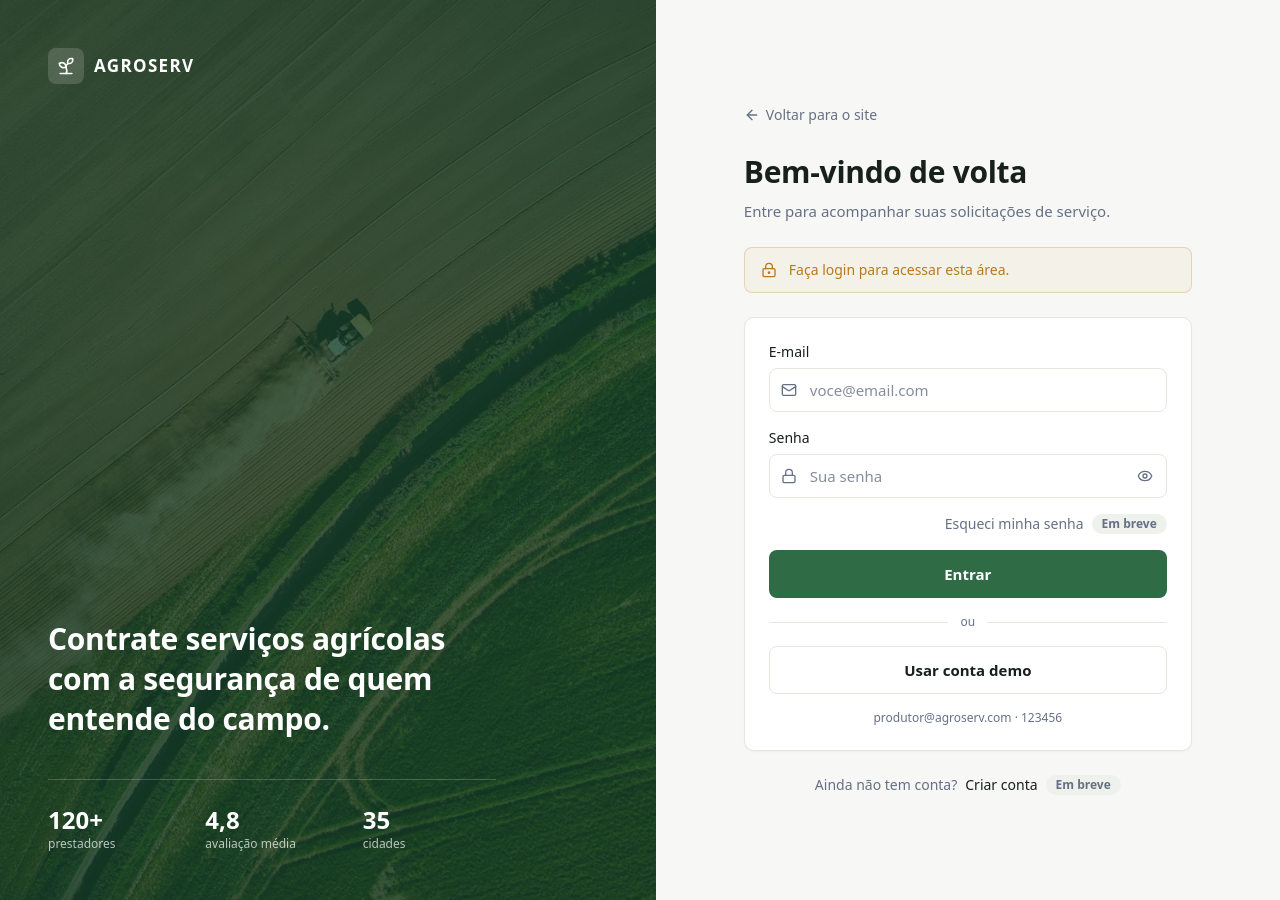
RequestsPage › returns to the filtered page after login
This screenshot has width=1280, height=900.
Expected: the text "Faça login para acessar esta área." is shown, [789, 260, 1009, 280]
Type "produtor@agroserv.com" into the field labelled "E-mail".
click(968, 390); type("produtor@agroserv.com")  # box [769, 368, 1167, 412]
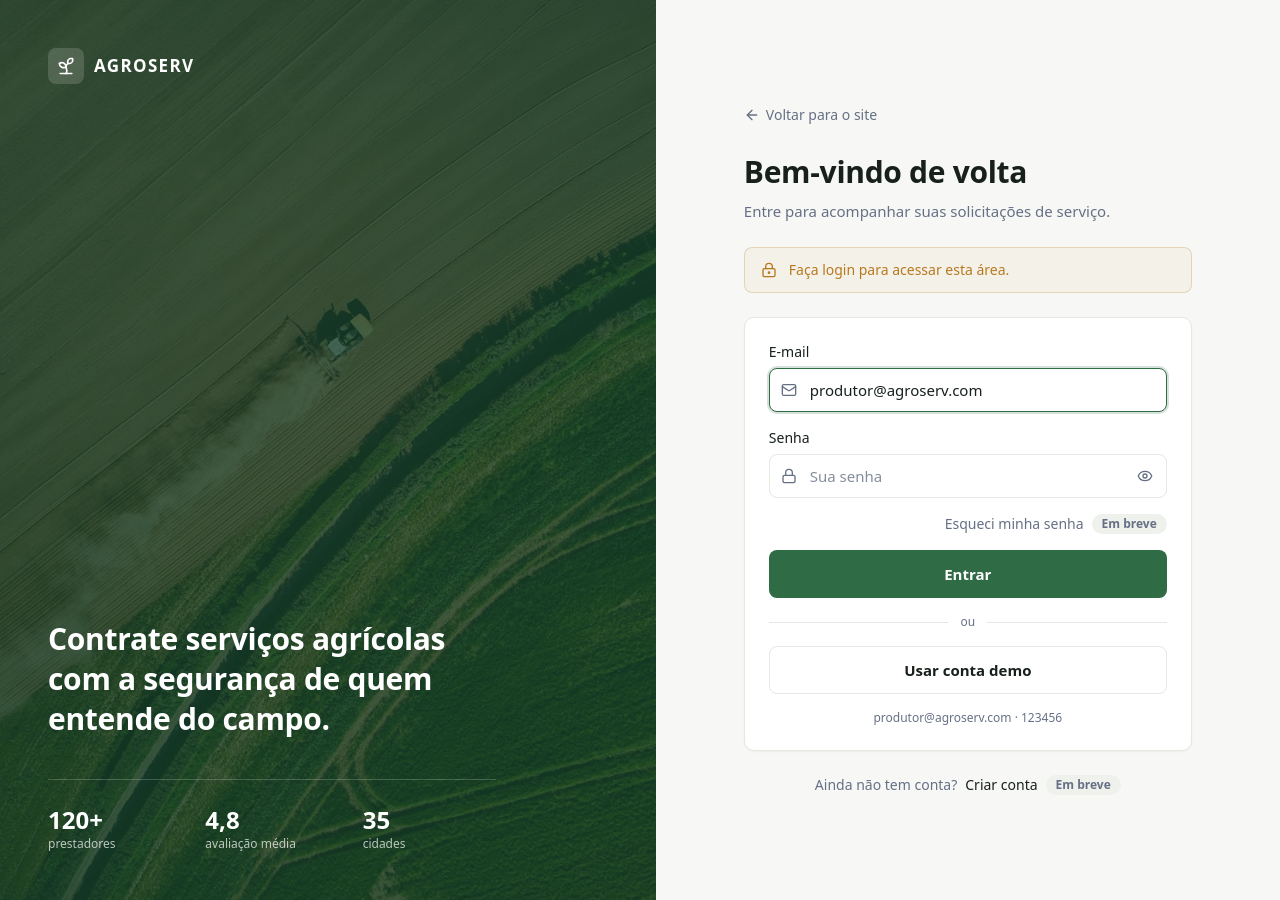
Type "123456" into the password field labelled "Senha".
click(968, 476); type("123456")  # box [769, 454, 1167, 498]
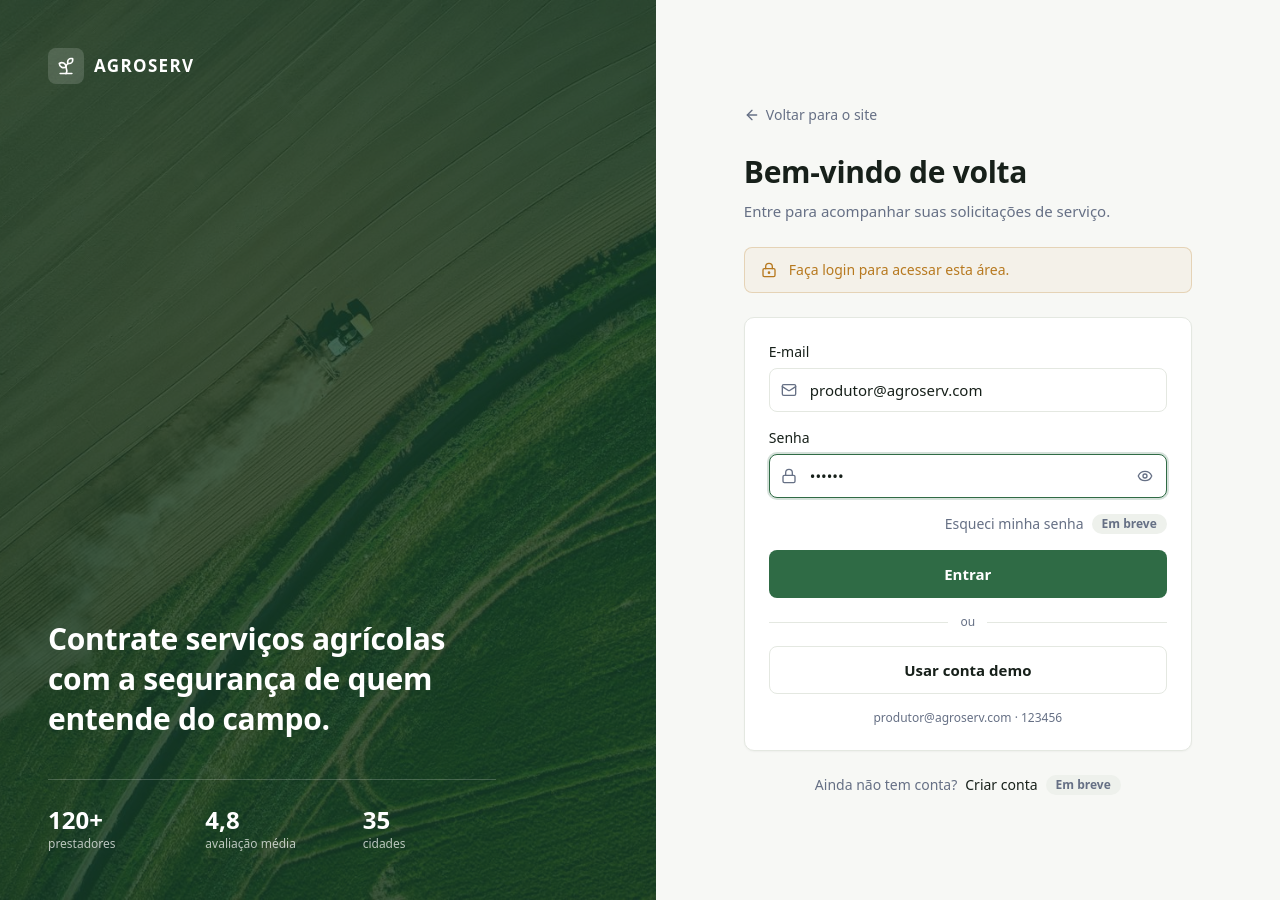
Click the button "Entrar".
click(968, 574)  # box [769, 550, 1167, 598]
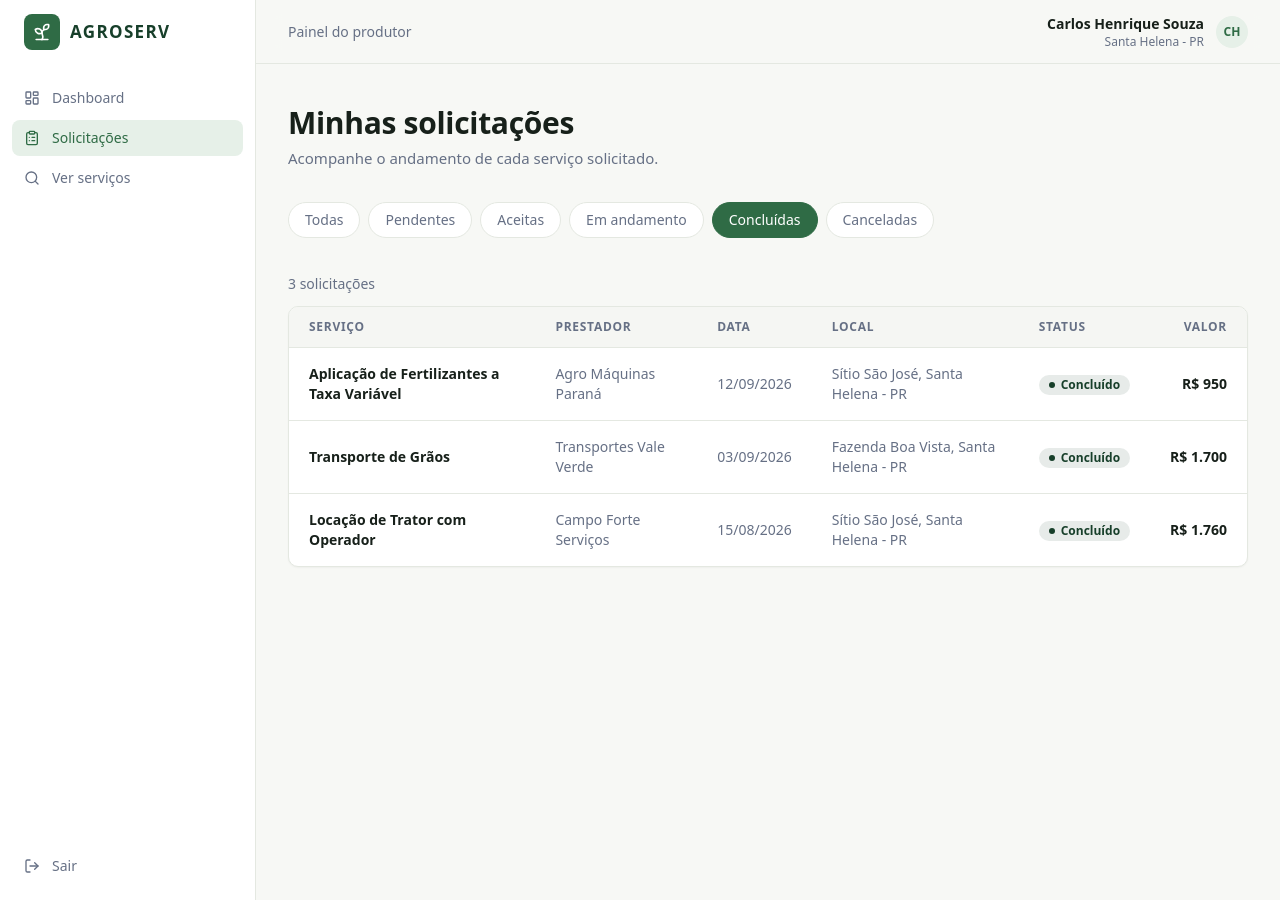
Now the heading "Minhas solicitações" is shown, box [288, 102, 574, 143]
Now the text "3 solicitações" is shown, box [288, 274, 375, 293]
